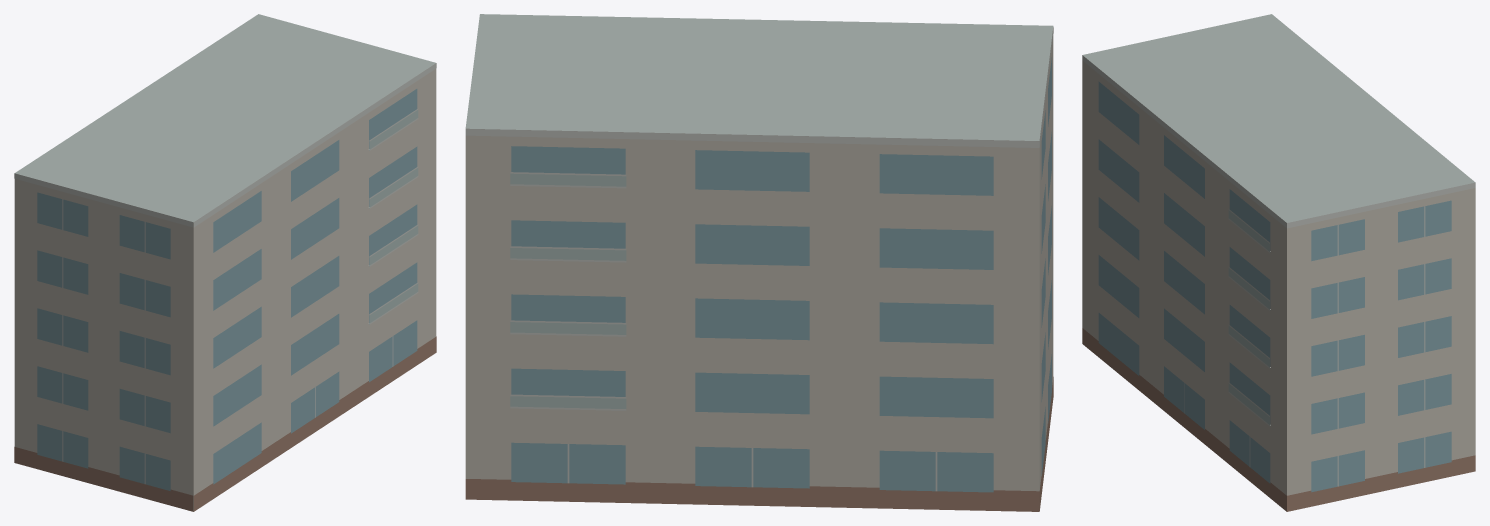
Rendered from survey-upis-32834922.glb.
3 views of the same model, side by side, from view 1: azimuth 30°, elevation 25°; view 2: azimuth 150°, elevation 25°; view 3: azimuth 270°, elevation 25° (orthographic). The views are drawn at different scales.
Parts seen in each view (by area): view 1: survey-upis-32834922.tmp; view 2: survey-upis-32834922.tmp; view 3: survey-upis-32834922.tmp.
Part boxes in pixels (x1,y1,x2,y2): survey-upis-32834922.tmp: (14, 14, 436, 511); survey-upis-32834922.tmp: (465, 14, 1053, 511); survey-upis-32834922.tmp: (1082, 14, 1475, 511).
Size of the model in its own units: 20.34 by 13.1 by 16.18.
